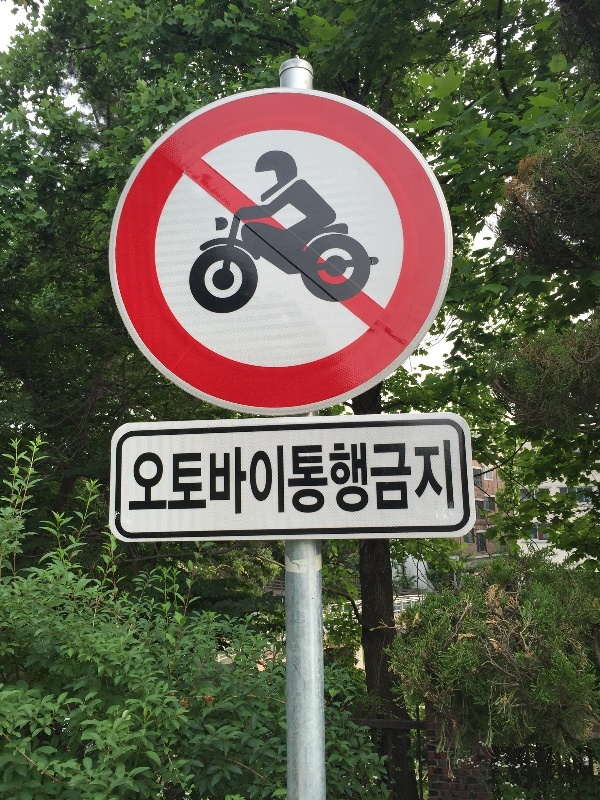text: (145, 436, 160, 517), (161, 436, 176, 517), (177, 436, 192, 517), (193, 436, 208, 517), (209, 436, 224, 517), (225, 436, 240, 517), (241, 436, 256, 517), (257, 436, 272, 517), (273, 436, 288, 517), (289, 436, 304, 517), (305, 436, 320, 517), (321, 436, 336, 517), (337, 436, 352, 517), (353, 436, 368, 517), (369, 436, 384, 517), (385, 436, 400, 517), (401, 436, 416, 517), (417, 436, 432, 517), (433, 436, 448, 517), (134, 436, 144, 517), (449, 436, 458, 517)
